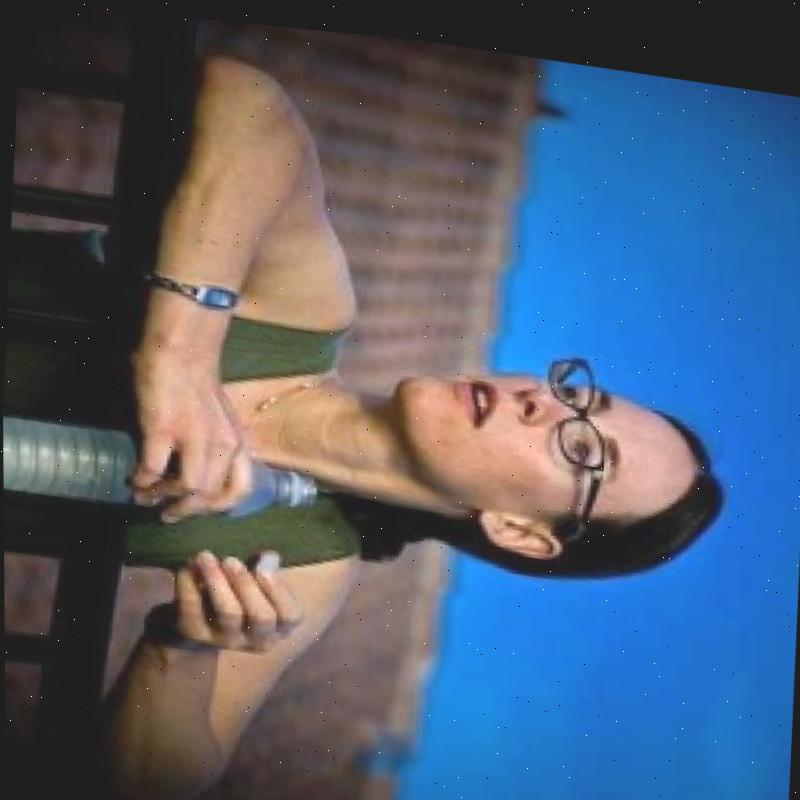botella: (2, 411, 317, 522)
